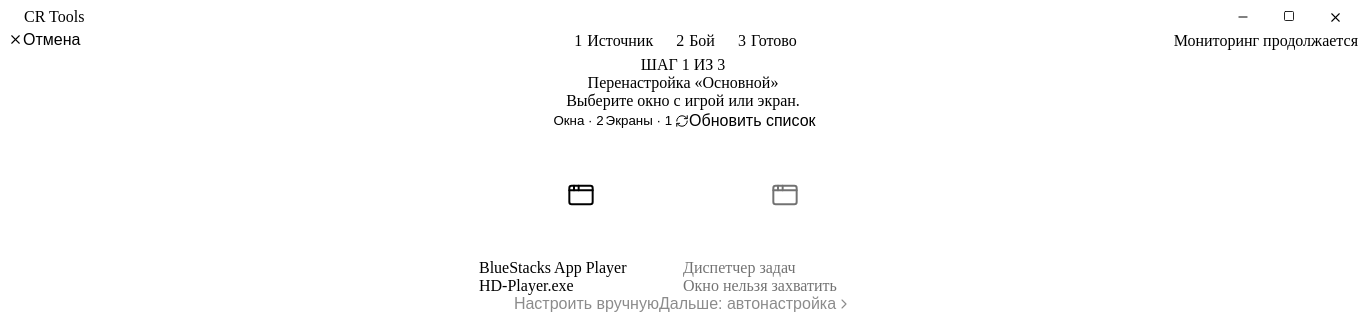
Scenario: setup flow: new profile › says only that the game is missing and offers a fresh frame or another window
This screenshot has width=1366, height=329.
Step 1. Click the button "BlueStacks App Player HD-Player.exe" → (581, 213), box [479,131,683,294]
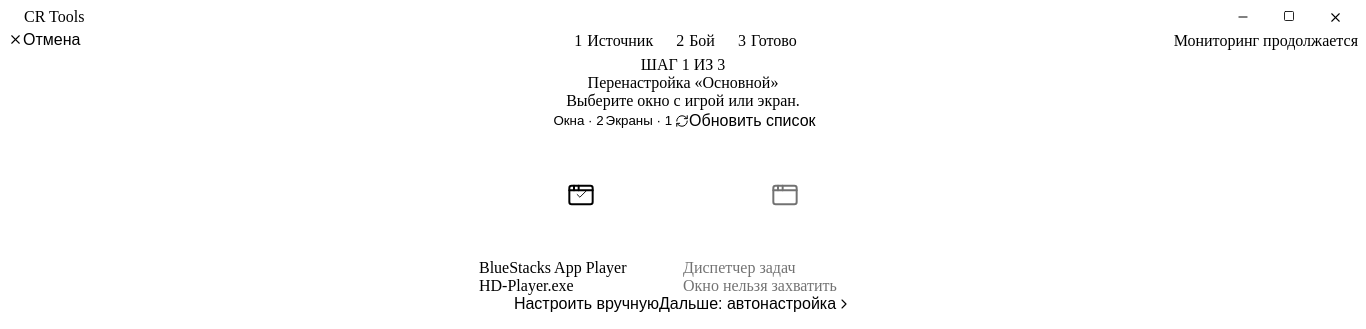
expect the button "Настроить вручную" is enabled: met
Step 2. Click the button "Настроить вручную" → (586, 304), box [514,294,659,312]
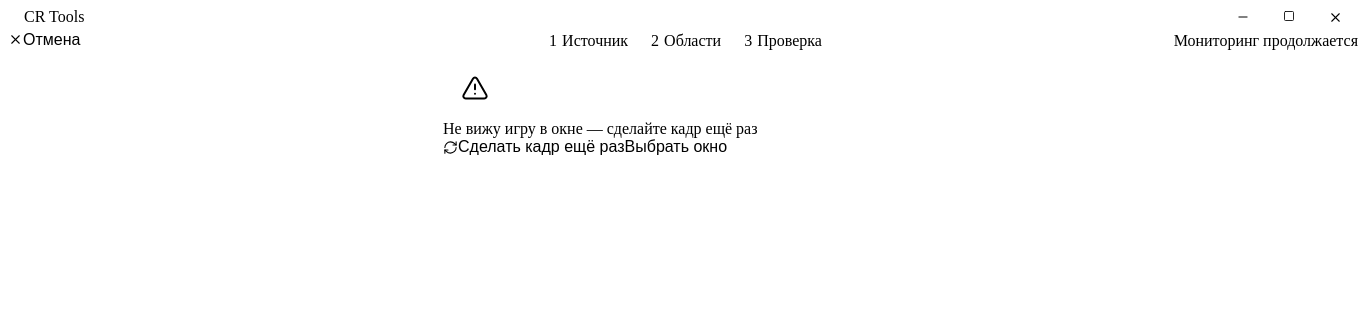
expect the heading "Не вижу игру в окне — сделайте кадр ещё раз" is shown: met, box [443,120,758,137]
expect the button "Сделать кадр ещё раз" is enabled: met, box [443,138,624,156]
expect the button "Выбрать окно" is enabled: met, box [624,138,727,156]
